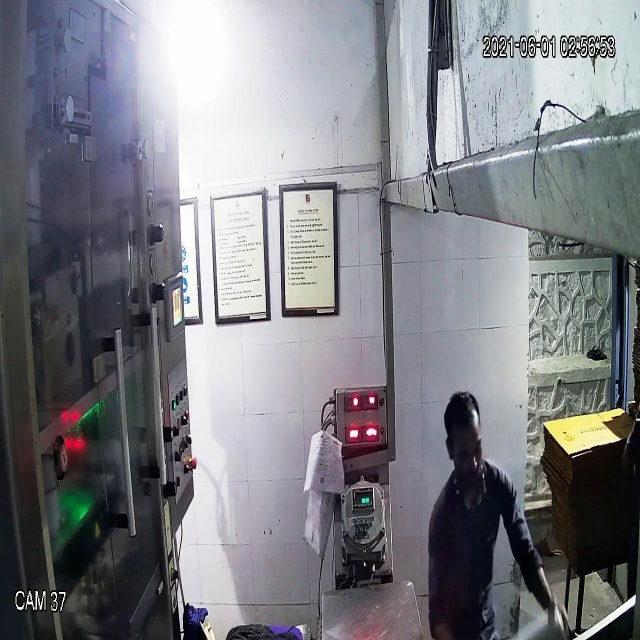Sin_gafas: (443, 431, 487, 466)
